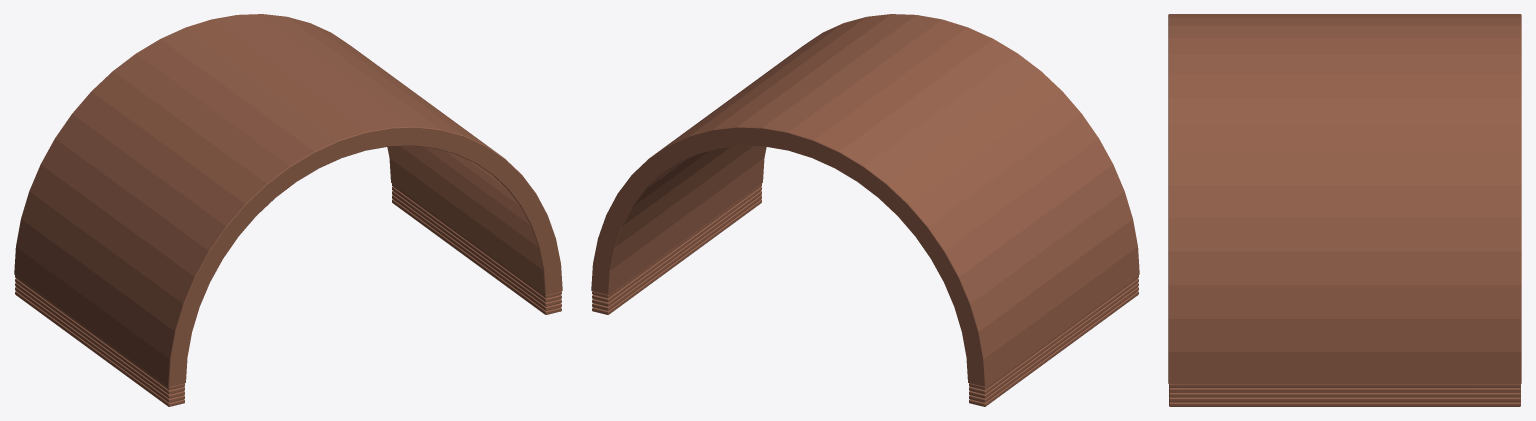
The model's file is undercity-sewers-and-thieves-den-cistern-vault-590571b6__25042.glb.
3 views of the same model, side by side, from view 1: azimuth 30°, elevation 25°; view 2: azimuth 150°, elevation 25°; view 3: azimuth 270°, elevation 25° (orthographic). The views are drawn at different scales.
Visible parts, largest first — view 1: cistern-vault; view 2: cistern-vault; view 3: cistern-vault.
Boxes of the visible parts, box(x1,y1,x2,y2) form: cistern-vault: box(14, 14, 562, 406); cistern-vault: box(591, 14, 1139, 406); cistern-vault: box(1168, 14, 1521, 406).
Size of the model in its own units: 5.92 by 3.26 by 4.02.
